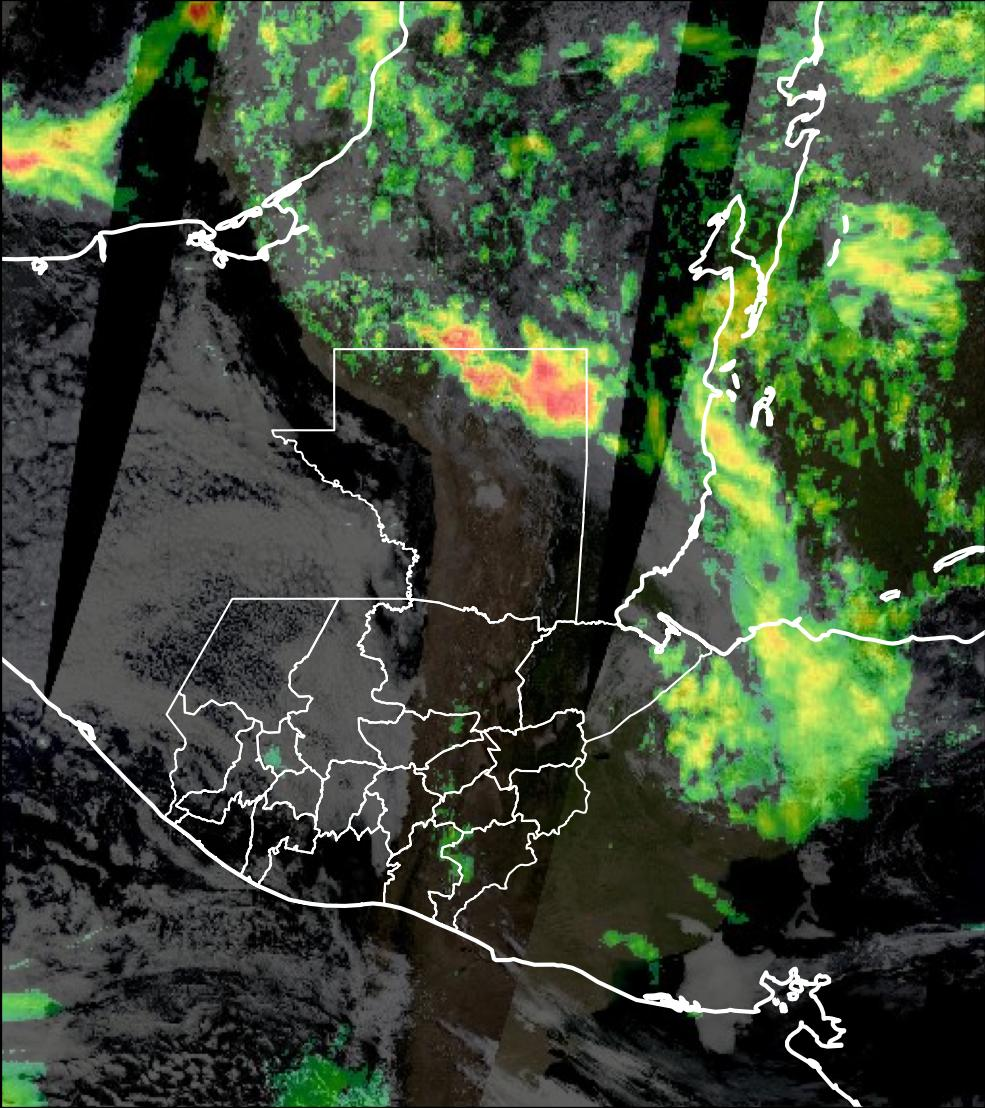precipitacion: (447, 320, 606, 439), (1, 139, 62, 194)
